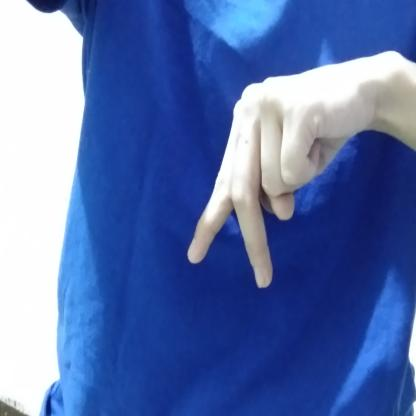run: (180, 54, 367, 296)
